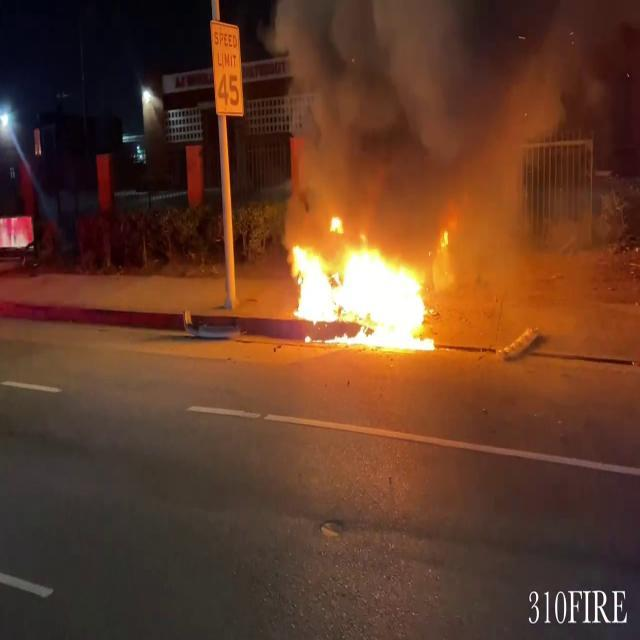Fire: (280, 220, 450, 356)
Smoke: (256, 0, 635, 222)
